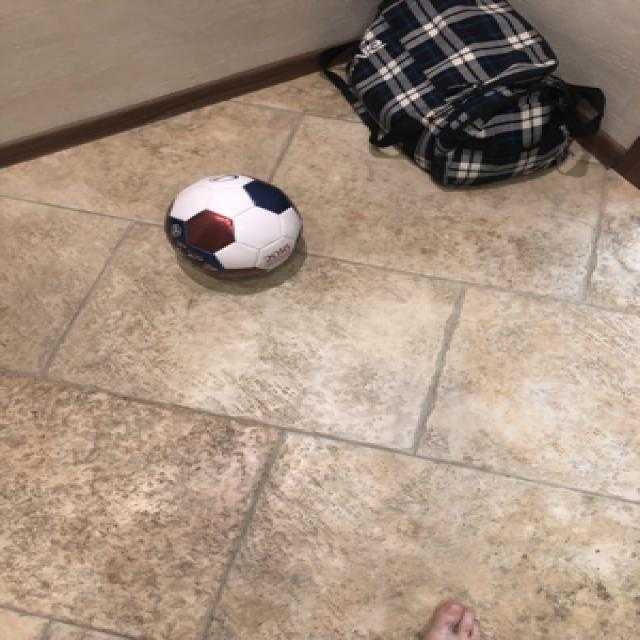soccer_ball: (158, 170, 303, 280)
